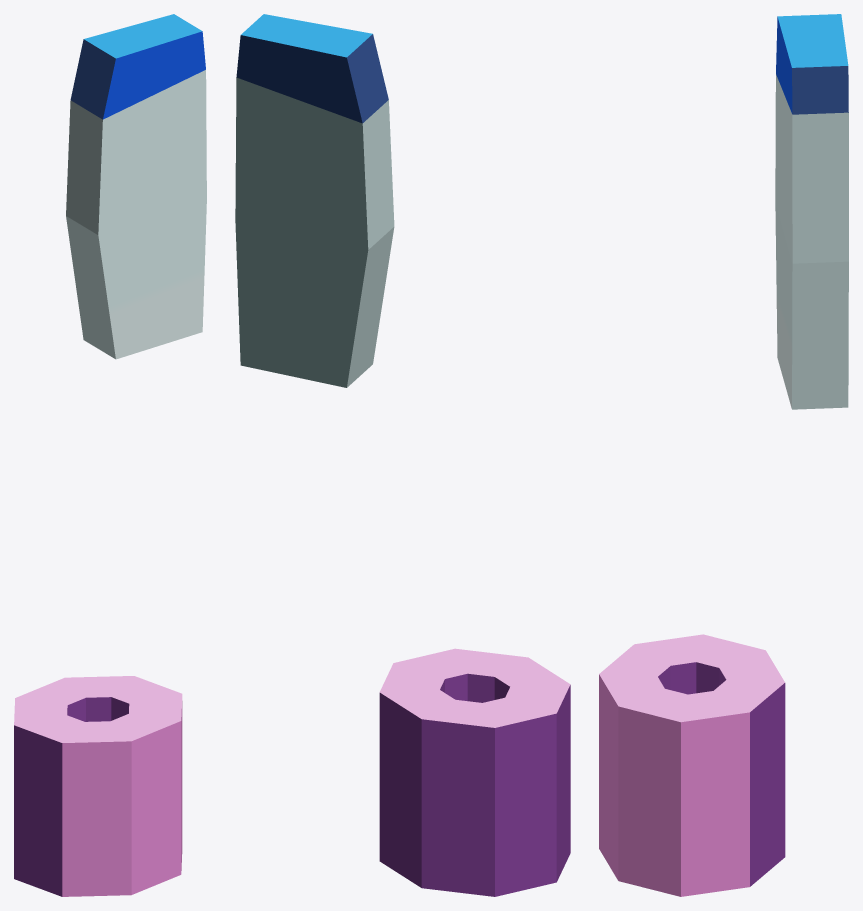
The model's file is PQ + Shampoing.fbx.
The picture shows the model from 3 angles, left to right: view 1: azimuth 30°, elevation 25°; view 2: azimuth 150°, elevation 25°; view 3: azimuth 270°, elevation 25°; orthographic projection. The views are drawn at different scales.
Parts seen in each view (by area): view 1: Shampoing, PQ; view 2: Shampoing, PQ; view 3: PQ, Shampoing.
Boxes of the visible parts, bbox=[...] form: Shampoing: bbox=[66, 14, 206, 359]; PQ: bbox=[14, 676, 182, 896]; Shampoing: bbox=[235, 14, 394, 387]; PQ: bbox=[379, 648, 570, 896]; PQ: bbox=[599, 634, 785, 896]; Shampoing: bbox=[775, 14, 848, 409].
Size of the model in its own units: 26.71 by 83.93 by 21.92.
